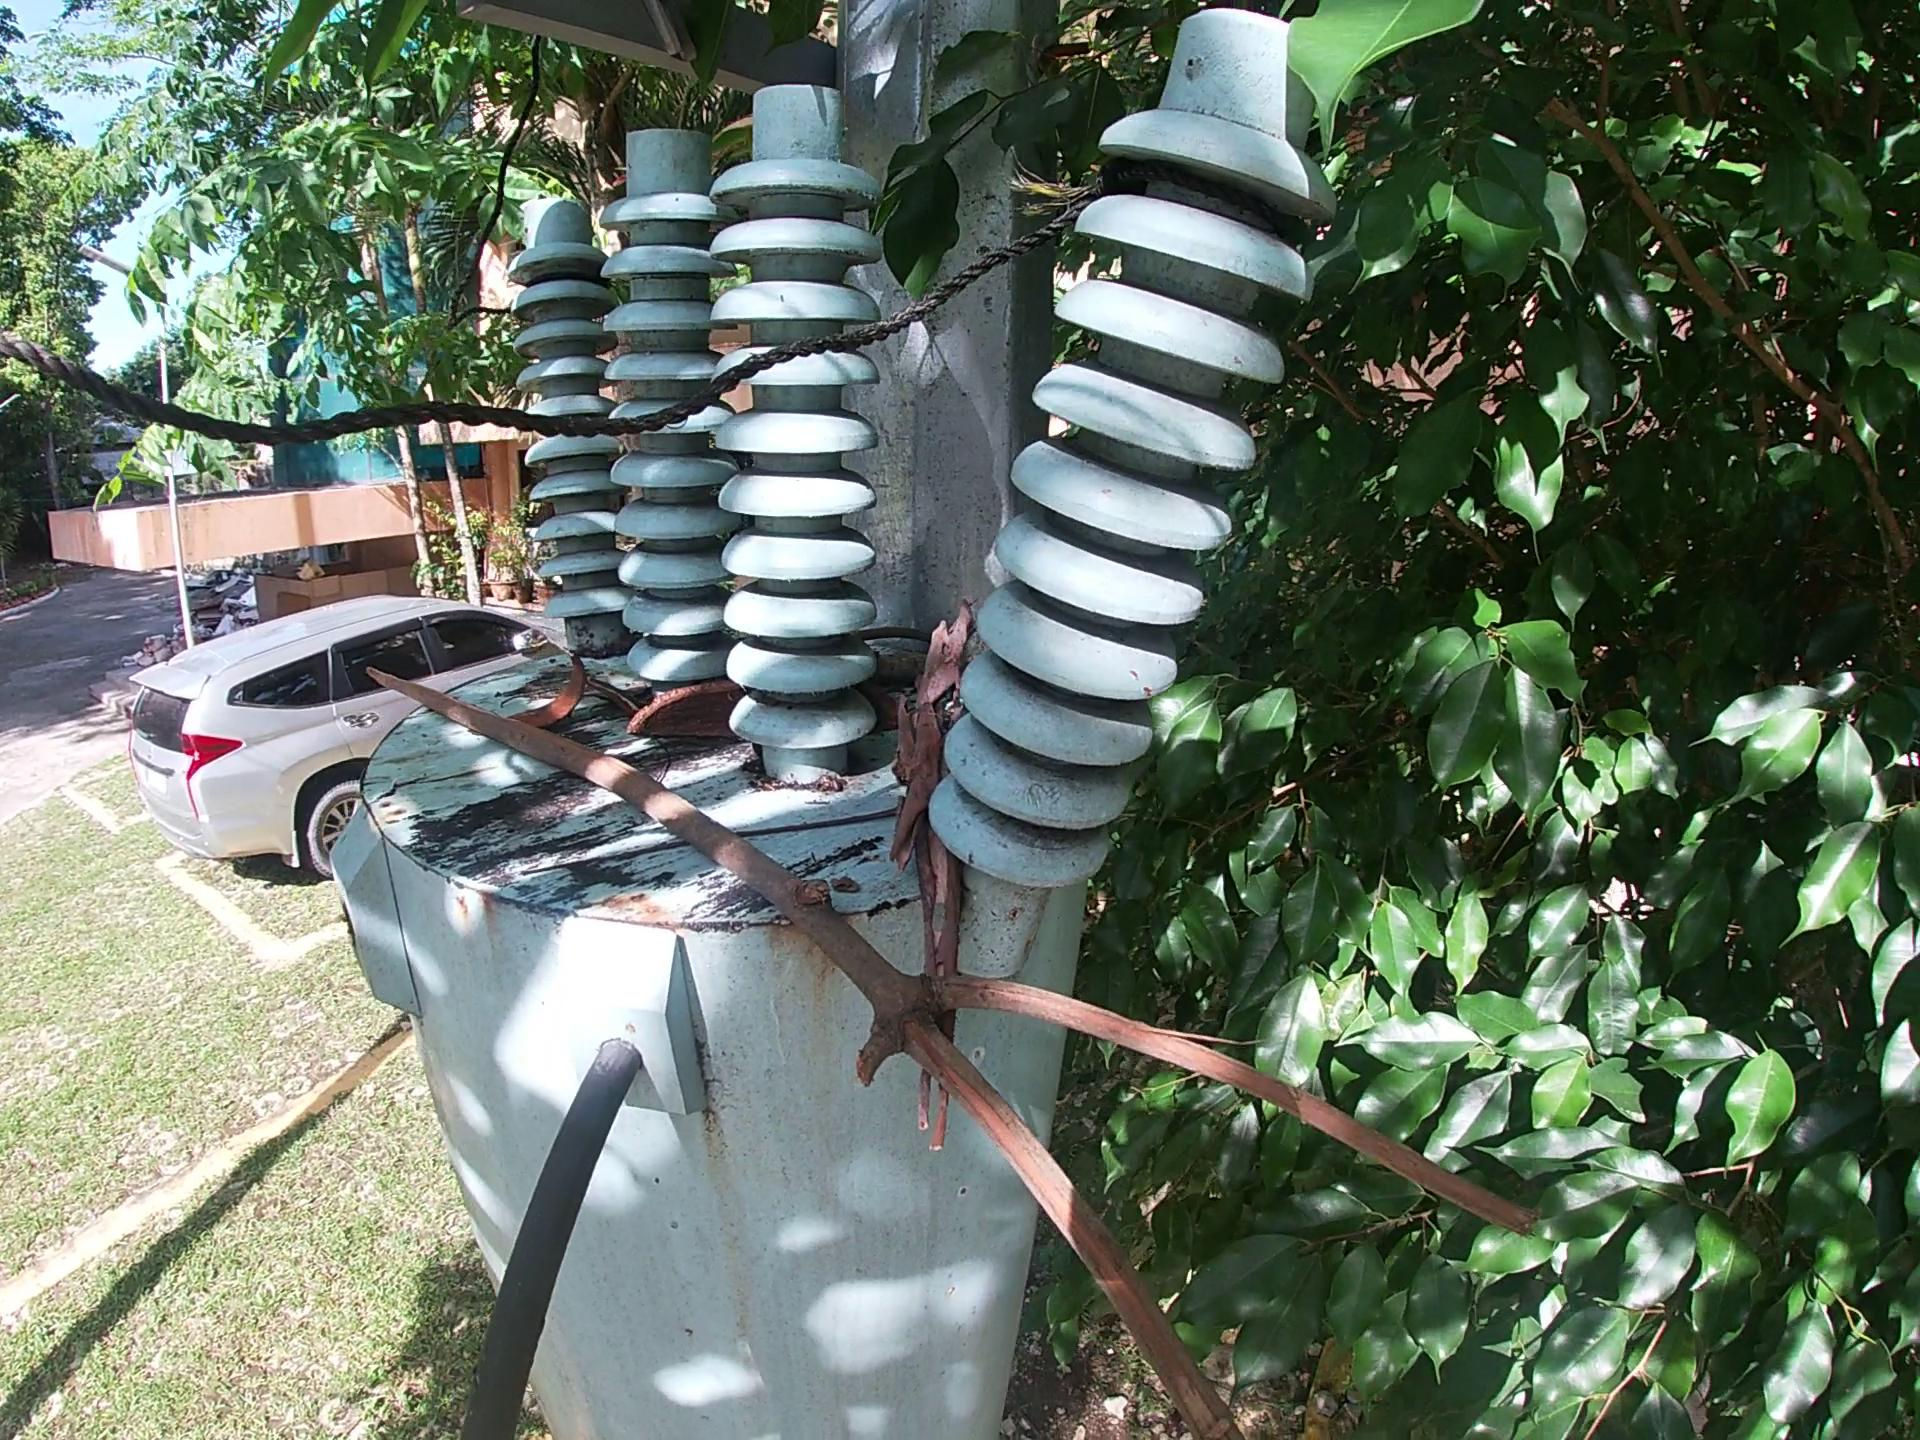mahogany fruit: (627, 675, 747, 744), (502, 647, 596, 731)
tree branch: (349, 649, 1545, 1440), (884, 607, 984, 1159), (842, 619, 934, 653)
